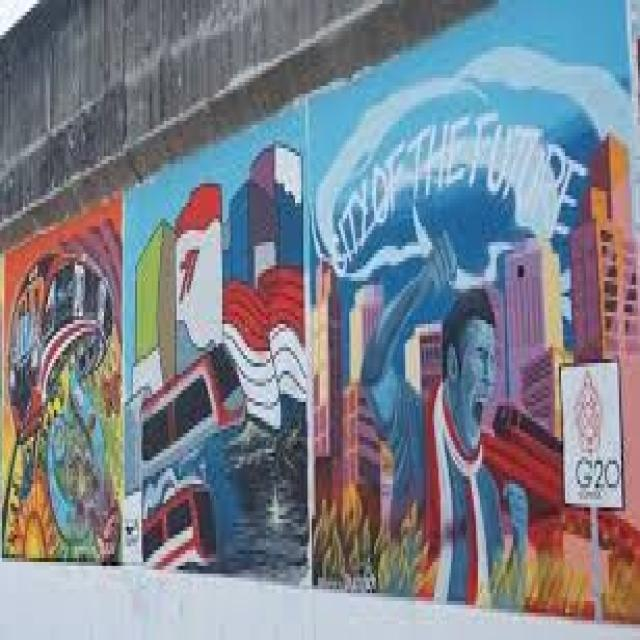-: (314, 39, 640, 621), (134, 144, 311, 578), (2, 192, 124, 561)
